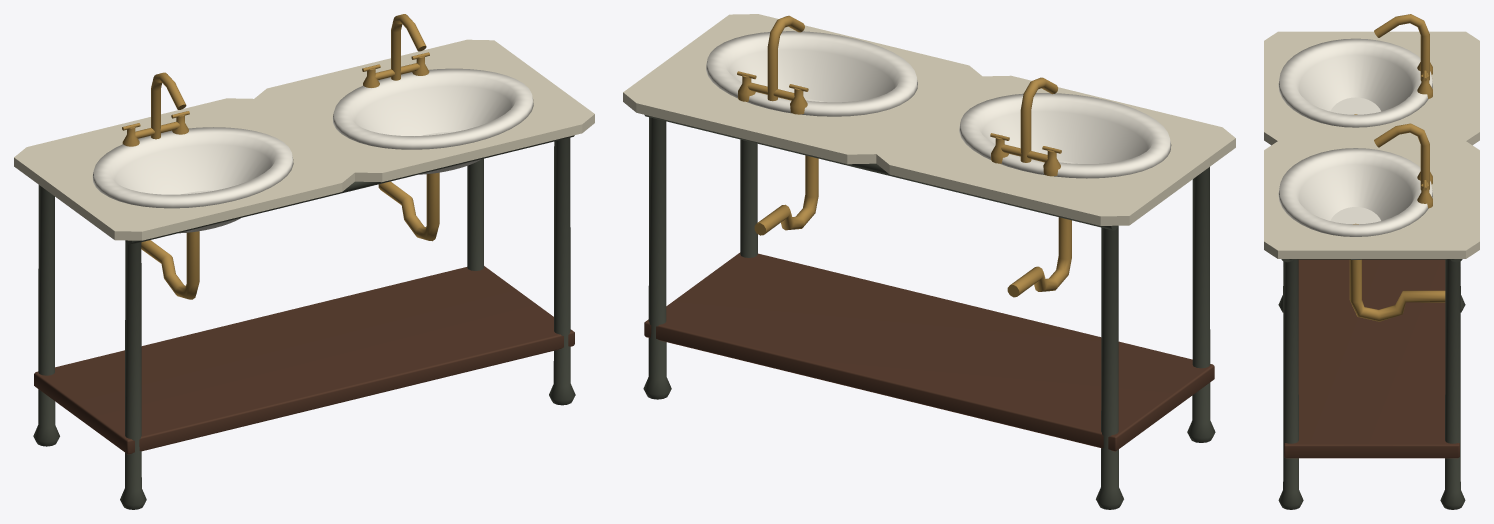
The model's file is rpg-mansion-double-basin-open-console-01.glb.
3 views of the same model, side by side, from view 1: azimuth 30°, elevation 25°; view 2: azimuth 150°, elevation 25°; view 3: azimuth 270°, elevation 25° (orthographic). The views are drawn at different scales.
Visible parts, largest first — view 1: rpg-mansion-double-basin-open-console-01; view 2: rpg-mansion-double-basin-open-console-01; view 3: rpg-mansion-double-basin-open-console-01.
Part boxes in pixels (x1,y1,x2,y2): rpg-mansion-double-basin-open-console-01: (14,14,594,509); rpg-mansion-double-basin-open-console-01: (623,14,1235,509); rpg-mansion-double-basin-open-console-01: (1264,14,1479,509).
Size of the model in its own units: 1.44 by 1.04 by 0.6.
